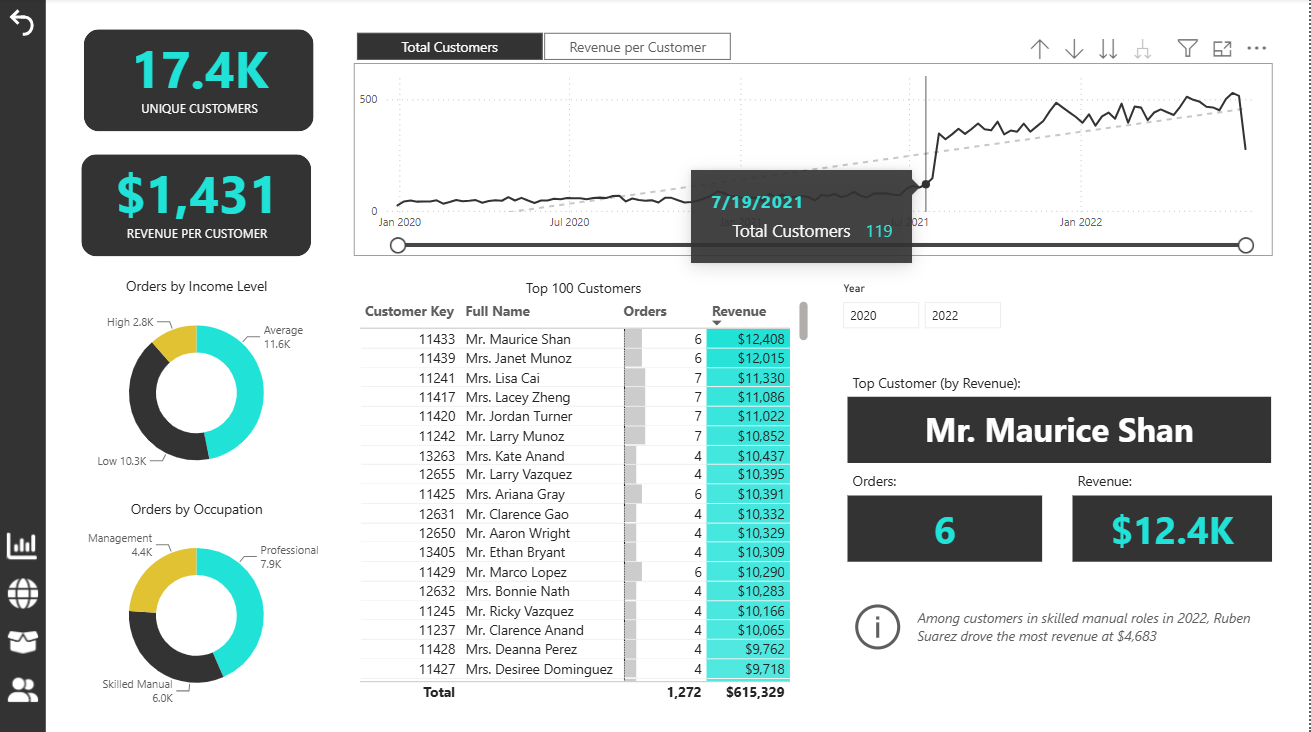

The dashboard page shown, as its layout file describes it:
{"tool":"powerbi","page":{"name":"Customer Detail","canvas":[1280,720],"ordinal":3},"visuals":[{"type":"shape","box":[0,0,45,720],"z":0},{"type":"actionButton","box":[2.5,516.7,45.6,37.8],"z":0,"group":"g1"},{"type":"shape","box":[81.7,30,225,100],"z":1000},{"type":"actionButton","box":[3.3,563.4,45.6,37.8],"z":1000,"group":"g1"},{"type":"shape","box":[80,152.7,225,100],"z":2000},{"type":"actionButton","box":[3.3,611.1,45.6,37.8],"z":2000,"group":"g1"},{"type":"card","fields":{"Values":["Measure Table.Total Customers"]},"box":[66.7,0,256.2,150],"z":3000},{"type":"actionButton","box":[3.3,657.8,45.6,37.8],"z":3000,"group":"g1"},{"type":"card","fields":{"Values":["Measure Table.Average Revenue per Customer"]},"box":[65,122.7,256.2,150],"z":4000},{"type":"lineChart","fields":{"Category":["Calendar Lookup.Date Hierarchy.Year","Calendar Lookup.Date Hierarchy.Start of Month","Calendar Lookup.Date Hierarchy.Start of Week","Calendar Lookup.Date Hierarchy.Date"],"Y":["Measure Table.Total Customers"]},"box":[345.9,63.3,898.6,188.8],"z":5000},{"type":"donutChart","title":"Orders by Income Level","fields":{"Category":["Customer Lookup.Income Level"],"Y":["Measure Table.Total Orders"]},"box":[63.8,272.5,257.5,210],"z":6000},{"type":"donutChart","title":"Orders by Occupation","fields":{"Category":["Customer Lookup.Occupation"],"Y":["Measure Table.Total Orders"]},"box":[63.8,490,257.5,210],"z":7000},{"type":"tableEx","title":"Top 100 Customers","fields":{"Values":["Customer Lookup.CustomerKey","Customer Lookup.Full Name","Measure Table.Total Orders","Measure Table.Total Revenue"]},"box":[346,273.6,449.4,418.4],"z":8000},{"type":"card","fields":{"Values":["Min(Customer Lookup.Full Name)"]},"box":[829.6,390.1,414.5,65.1],"z":9000},{"type":"card","fields":{"Values":["Measure Table.Total Orders"]},"box":[829.6,487,190.7,65.1],"z":10000},{"type":"card","fields":{"Values":["Measure Table.Total Revenue"]},"box":[1048.7,487,195.4,65.1],"z":11000},{"type":"textbox","box":[829.6,361.7,190.7,37.9],"z":12000},{"type":"textbox","box":[829.6,458.4,190.7,37.9],"z":13000},{"type":"textbox","box":[1048.7,458.4,190.7,37.9],"z":14000},{"type":"slicer","fields":{"Values":["Calendar Lookup.Year"]},"box":[811.6,272.4,432.9,80.3],"z":15000},{"type":"actionButton","box":[830,586.7,410,56.7],"z":16000},{"type":"actionButton","box":[3.3,5.6,35.6,35.6],"z":17000},{"type":"group","id":"g1","title":"Navigation Buttons","box":[2.5,516.7,46.4,178.9],"z":18000},{"type":"slicer","fields":{"Values":["Customer Metric Selection.Customer Metric Selection"]},"box":[323.3,27.1,415.9,36.2],"z":19000}]}

Visuals, with their boxes on the page's 1280x720 design canvas (x1, y1, x2, y2). These are canvas units, not pixel positions in the 1311x732 screenshot, which may show the page scaled, cropped or inside an application window:
shape: [0, 0, 45, 720]
actionButton: [2, 517, 48, 554]
shape: [82, 30, 307, 130]
actionButton: [3, 563, 49, 601]
shape: [80, 153, 305, 253]
actionButton: [3, 611, 49, 649]
card - Measure Table.Total Customers: [67, 0, 323, 150]
actionButton: [3, 658, 49, 696]
card - Measure Table.Average Revenue per Customer: [65, 123, 321, 273]
lineChart - Calendar Lookup.Date Hierarchy.Year x Calendar Lookup.Date Hierarchy.Start of Month: [346, 63, 1244, 252]
"Orders by Income Level" donutChart: [64, 272, 321, 482]
"Orders by Occupation" donutChart: [64, 490, 321, 700]
"Top 100 Customers" tableEx: [346, 274, 795, 692]
card - Min(Customer Lookup.Full Name): [830, 390, 1244, 455]
card - Measure Table.Total Orders: [830, 487, 1020, 552]
card - Measure Table.Total Revenue: [1049, 487, 1244, 552]
textbox: [830, 362, 1020, 400]
textbox: [830, 458, 1020, 496]
textbox: [1049, 458, 1239, 496]
slicer - Calendar Lookup.Year: [812, 272, 1244, 353]
actionButton: [830, 587, 1240, 643]
actionButton: [3, 6, 39, 41]
"Navigation Buttons" group: [2, 517, 49, 696]
slicer - Customer Metric Selection.Customer Metric Selection: [323, 27, 739, 63]
